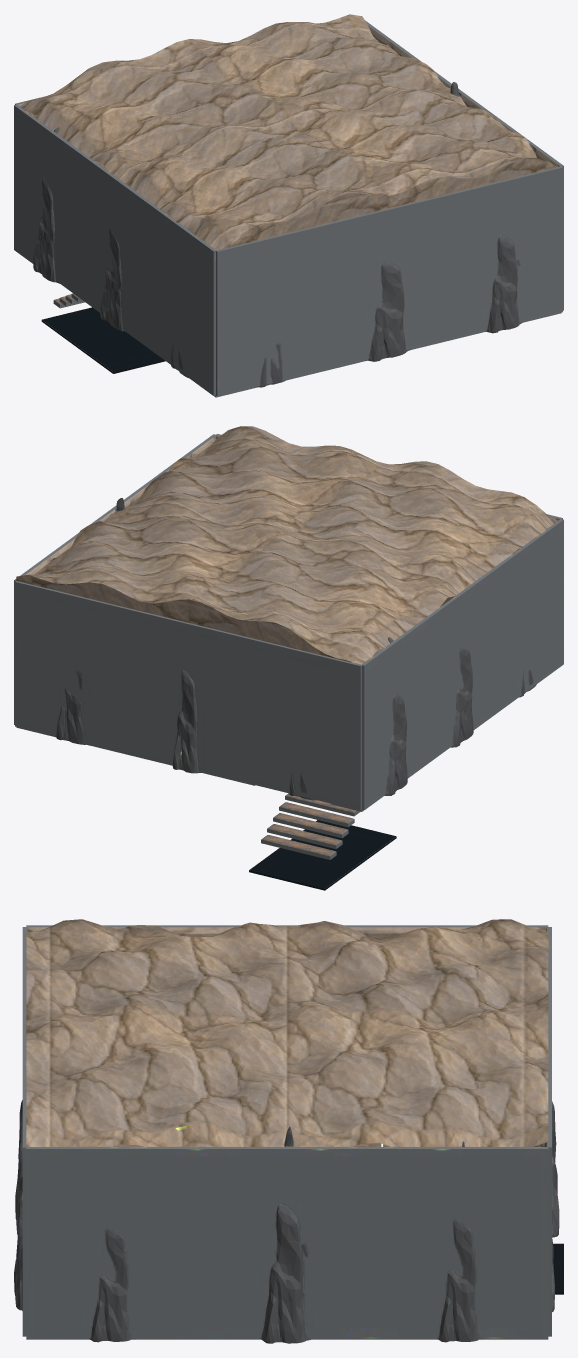
The model's file is room.glb.
The picture shows the model from 3 angles, top to bottom: view 1: azimuth 30°, elevation 25°; view 2: azimuth 150°, elevation 25°; view 3: azimuth 270°, elevation 25°; orthographic projection. The views are drawn at different scales.
Visible parts, largest first — view 1: ZORK3; view 2: ZORK3; view 3: ZORK3.
Boxes of the visible parts, left/top/right/bottom form: ZORK3: left=14, top=14, right=563, bottom=397; ZORK3: left=14, top=426, right=563, bottom=890; ZORK3: left=14, top=919, right=563, bottom=1343.
Size of the model in its own units: 10.46 by 7.05 by 10.54.
Materials: 1 (1 with a texture image).
